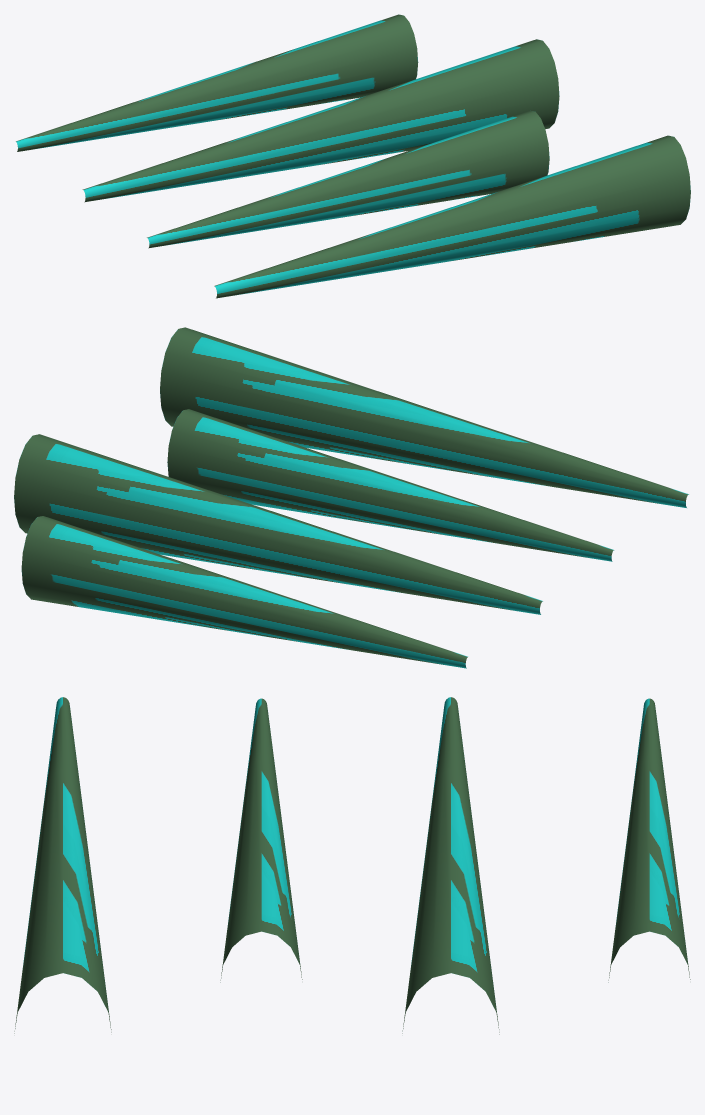
The model's file is underwater_lights.glb.
3 renders of one model, top to bottom at view 1: azimuth 30°, elevation 25°; view 2: azimuth 150°, elevation 25°; view 3: azimuth 270°, elevation 25°, orthographic. The views are drawn at different scales.
Visible parts, largest first — view 1: underwater_lights.png__; view 2: underwater_lights.png__; view 3: underwater_lights.png__.
Boxes of the visible parts, x1=… form: underwater_lights.png__: x1=16, y1=14, x2=690, y2=298; underwater_lights.png__: x1=14, y1=327, x2=688, y2=668; underwater_lights.png__: x1=14, y1=697, x2=690, y2=1034.
Size of the model in its own units: 158 by 28.42 by 136.
Materials: 1 (1 with a texture image).
